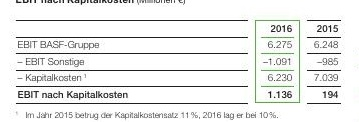table: (0, 0, 359, 122)
